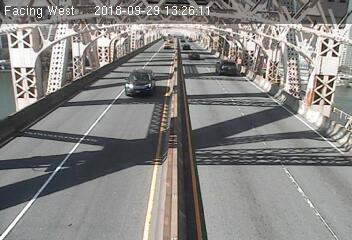car: (123, 68, 157, 95), (213, 58, 238, 74), (187, 50, 201, 59), (161, 41, 172, 51), (182, 43, 189, 51)
